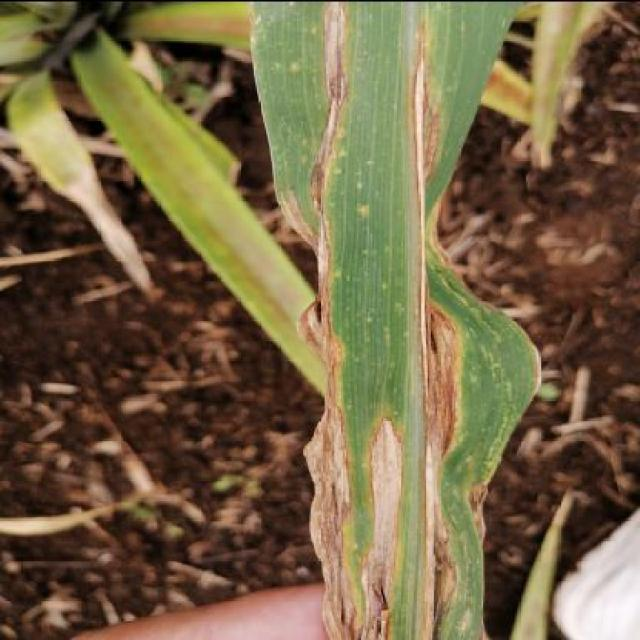Corn_Leaf_Blight: (246, 9, 554, 640)
